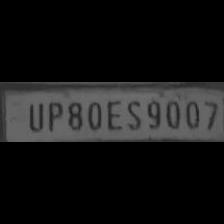0: (84, 97, 103, 130), (163, 96, 181, 130), (182, 98, 200, 130)
7: (201, 97, 219, 130)
8: (64, 98, 84, 132)
9: (144, 96, 162, 130)
E: (103, 97, 123, 131)
P: (44, 99, 62, 133)
S: (124, 97, 142, 131)
U: (23, 98, 43, 132)
